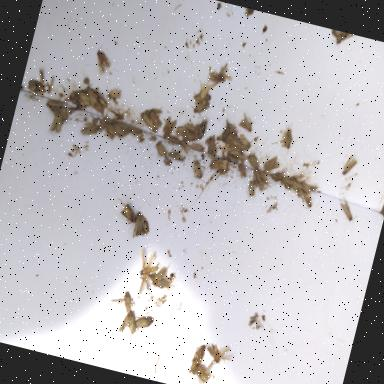pbw: (142, 258, 175, 295), (110, 198, 140, 235), (203, 341, 236, 369), (204, 59, 230, 94), (278, 121, 300, 161), (108, 288, 136, 316), (92, 44, 115, 78), (130, 209, 153, 241), (190, 359, 217, 384), (336, 196, 360, 223), (188, 342, 207, 376), (118, 308, 140, 336), (188, 160, 212, 184), (339, 152, 359, 178), (188, 97, 210, 120), (328, 29, 354, 48), (236, 112, 256, 134), (152, 140, 172, 162), (132, 312, 154, 332), (160, 116, 177, 141), (190, 88, 212, 107), (232, 132, 252, 152), (194, 116, 208, 144), (146, 109, 164, 130), (194, 80, 210, 103), (80, 120, 100, 138), (137, 112, 156, 130), (298, 190, 315, 210), (84, 88, 100, 108), (216, 158, 231, 178), (94, 92, 110, 110), (180, 128, 198, 144), (50, 112, 63, 133), (168, 146, 186, 161), (174, 125, 190, 140), (210, 157, 227, 171), (206, 138, 219, 156), (246, 154, 260, 170), (76, 92, 91, 106), (236, 164, 249, 180), (246, 180, 258, 197), (107, 88, 123, 100), (189, 142, 205, 152)
